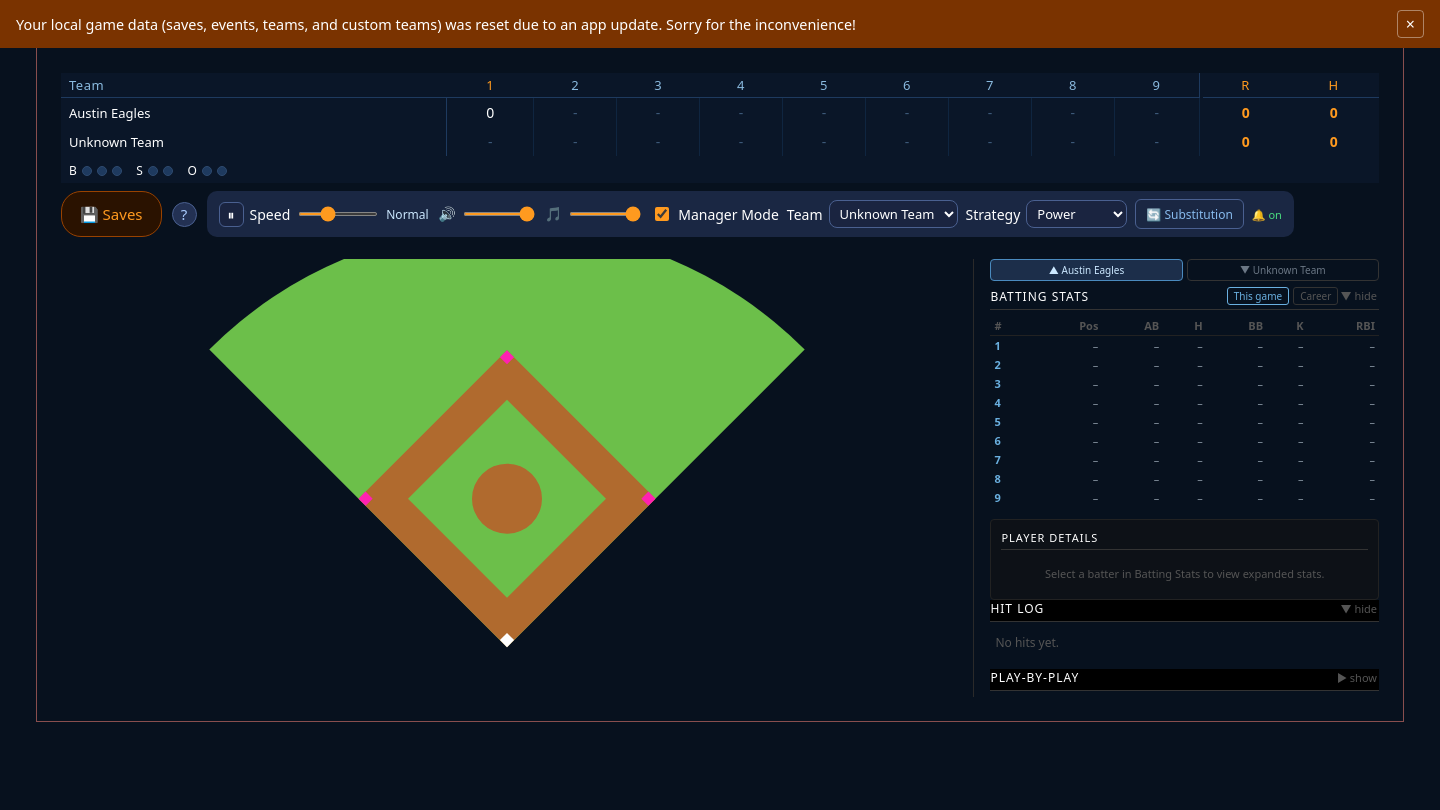
Scenario: Game — DbResetNotice › hides the notice after clicking the dismiss button
Check: the element with test id "db-reset-notice" is shown, box [0,0,1439,48]
Click the button named "dismiss notice" at (1410, 24), box [1397,10,1424,38]
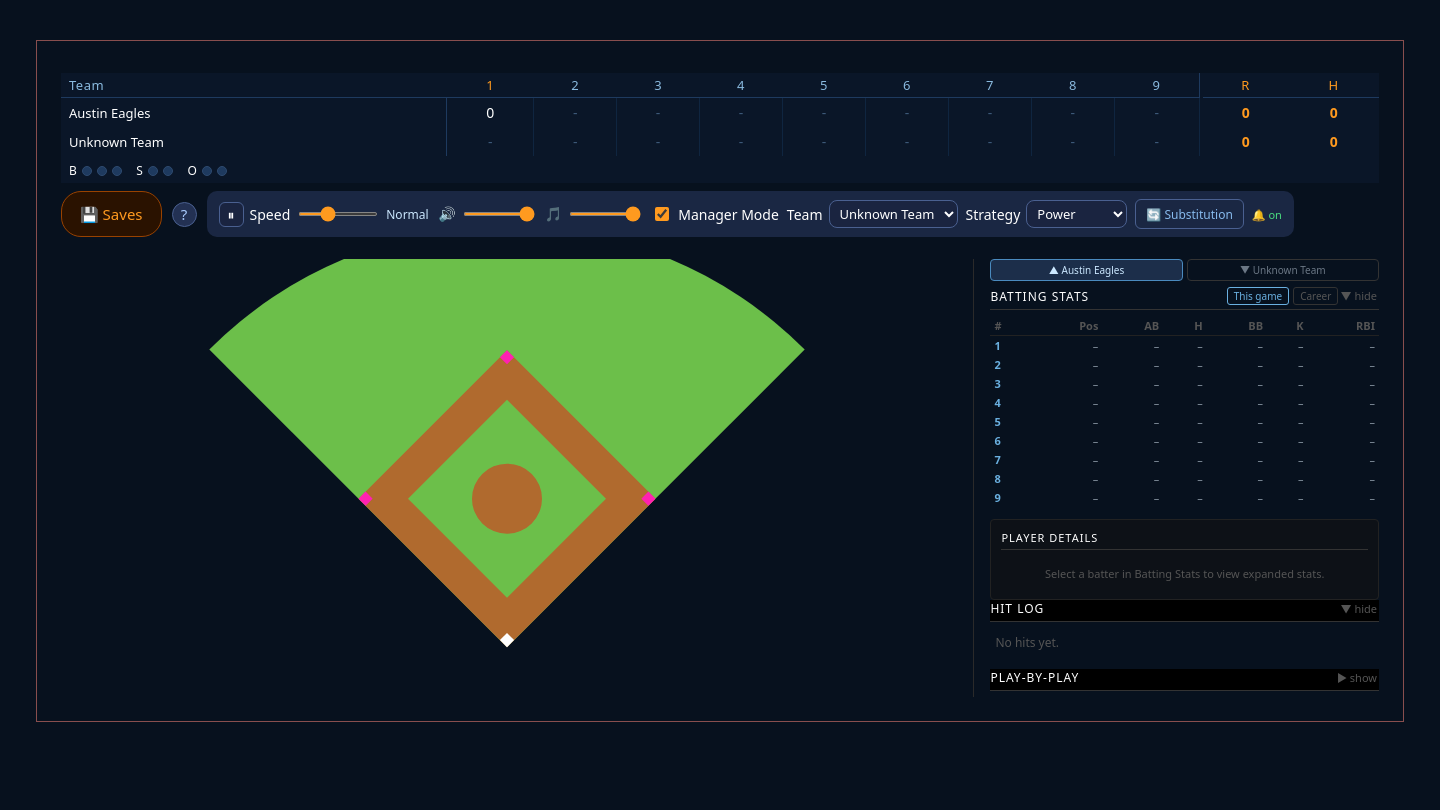
Check: the element with test id "db-reset-notice" is gone
